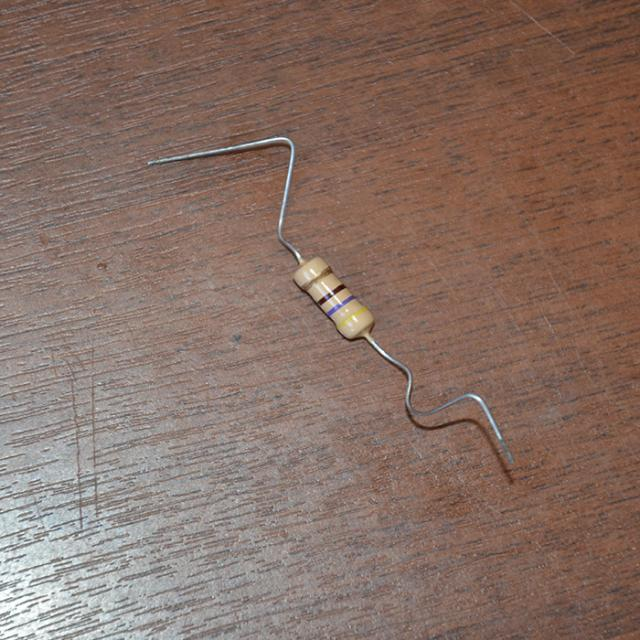brown: (317, 283, 346, 304)
gold: (303, 267, 332, 289)
resistor: (278, 242, 381, 353)
violet: (326, 296, 353, 315)
yellow: (337, 306, 366, 328)
